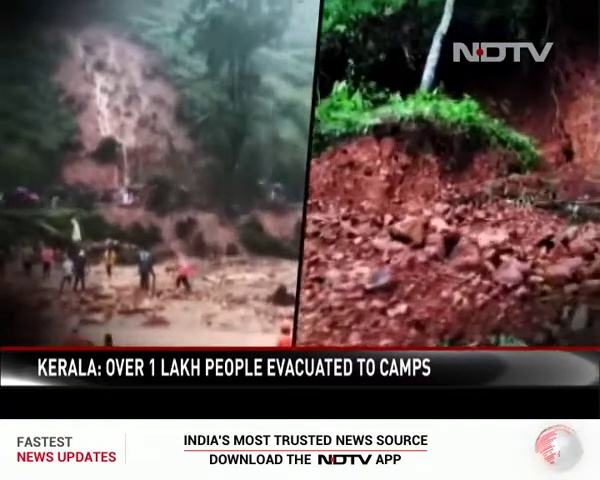person: (135, 248, 156, 288), (74, 250, 90, 290), (60, 252, 75, 293), (41, 245, 53, 276)
